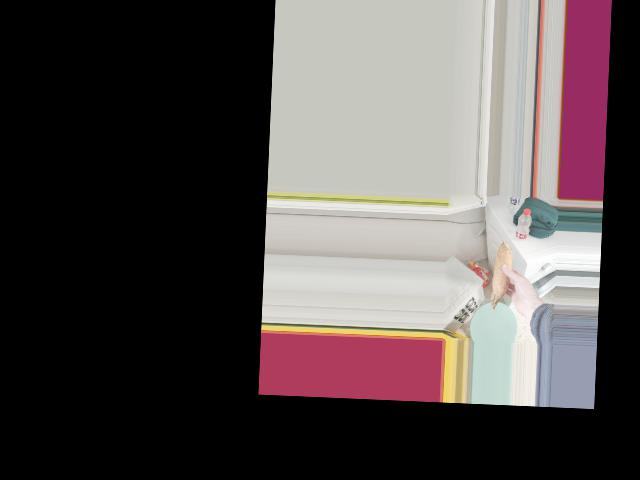sweet_potato: (489, 238, 510, 314)
